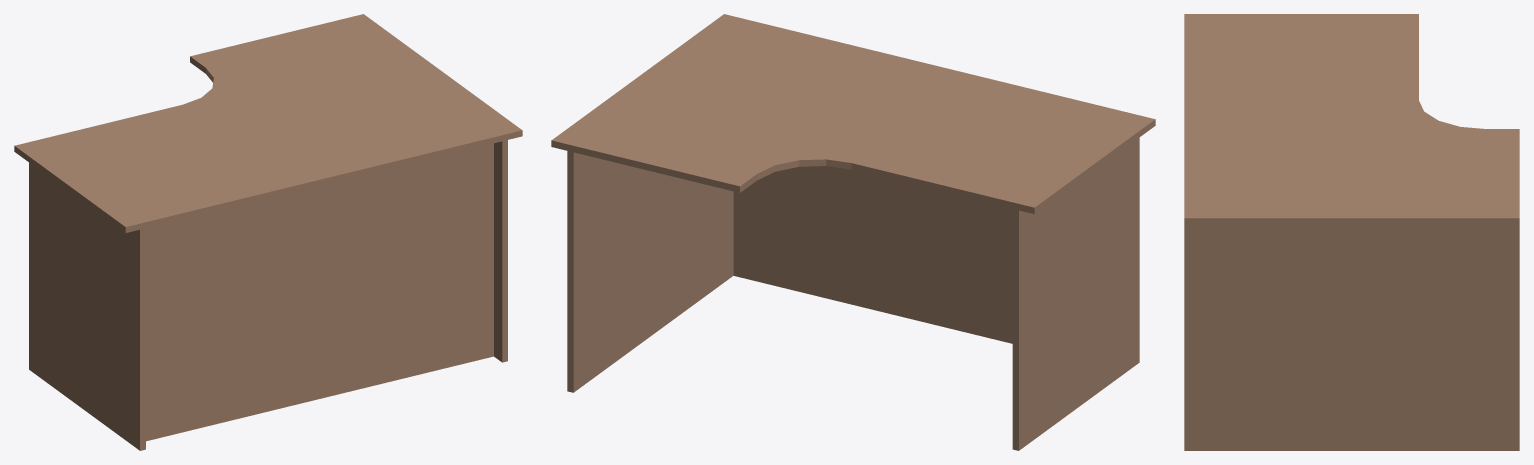
The model's file is table1.fbx.
3 renders of one model, left to right at view 1: azimuth 30°, elevation 25°; view 2: azimuth 150°, elevation 25°; view 3: azimuth 270°, elevation 25°, orthographic. The views are drawn at different scales.
Parts seen in each view (by area): view 1: Cube.010; view 2: Cube.010; view 3: Cube.010.
Part boxes in pixels (<box>): Cube.010: <box>14,14,522,450</box>; Cube.010: <box>551,14,1155,450</box>; Cube.010: <box>1184,14,1519,450</box>.
Size of the model in its own units: 137 by 75 by 95.01.
